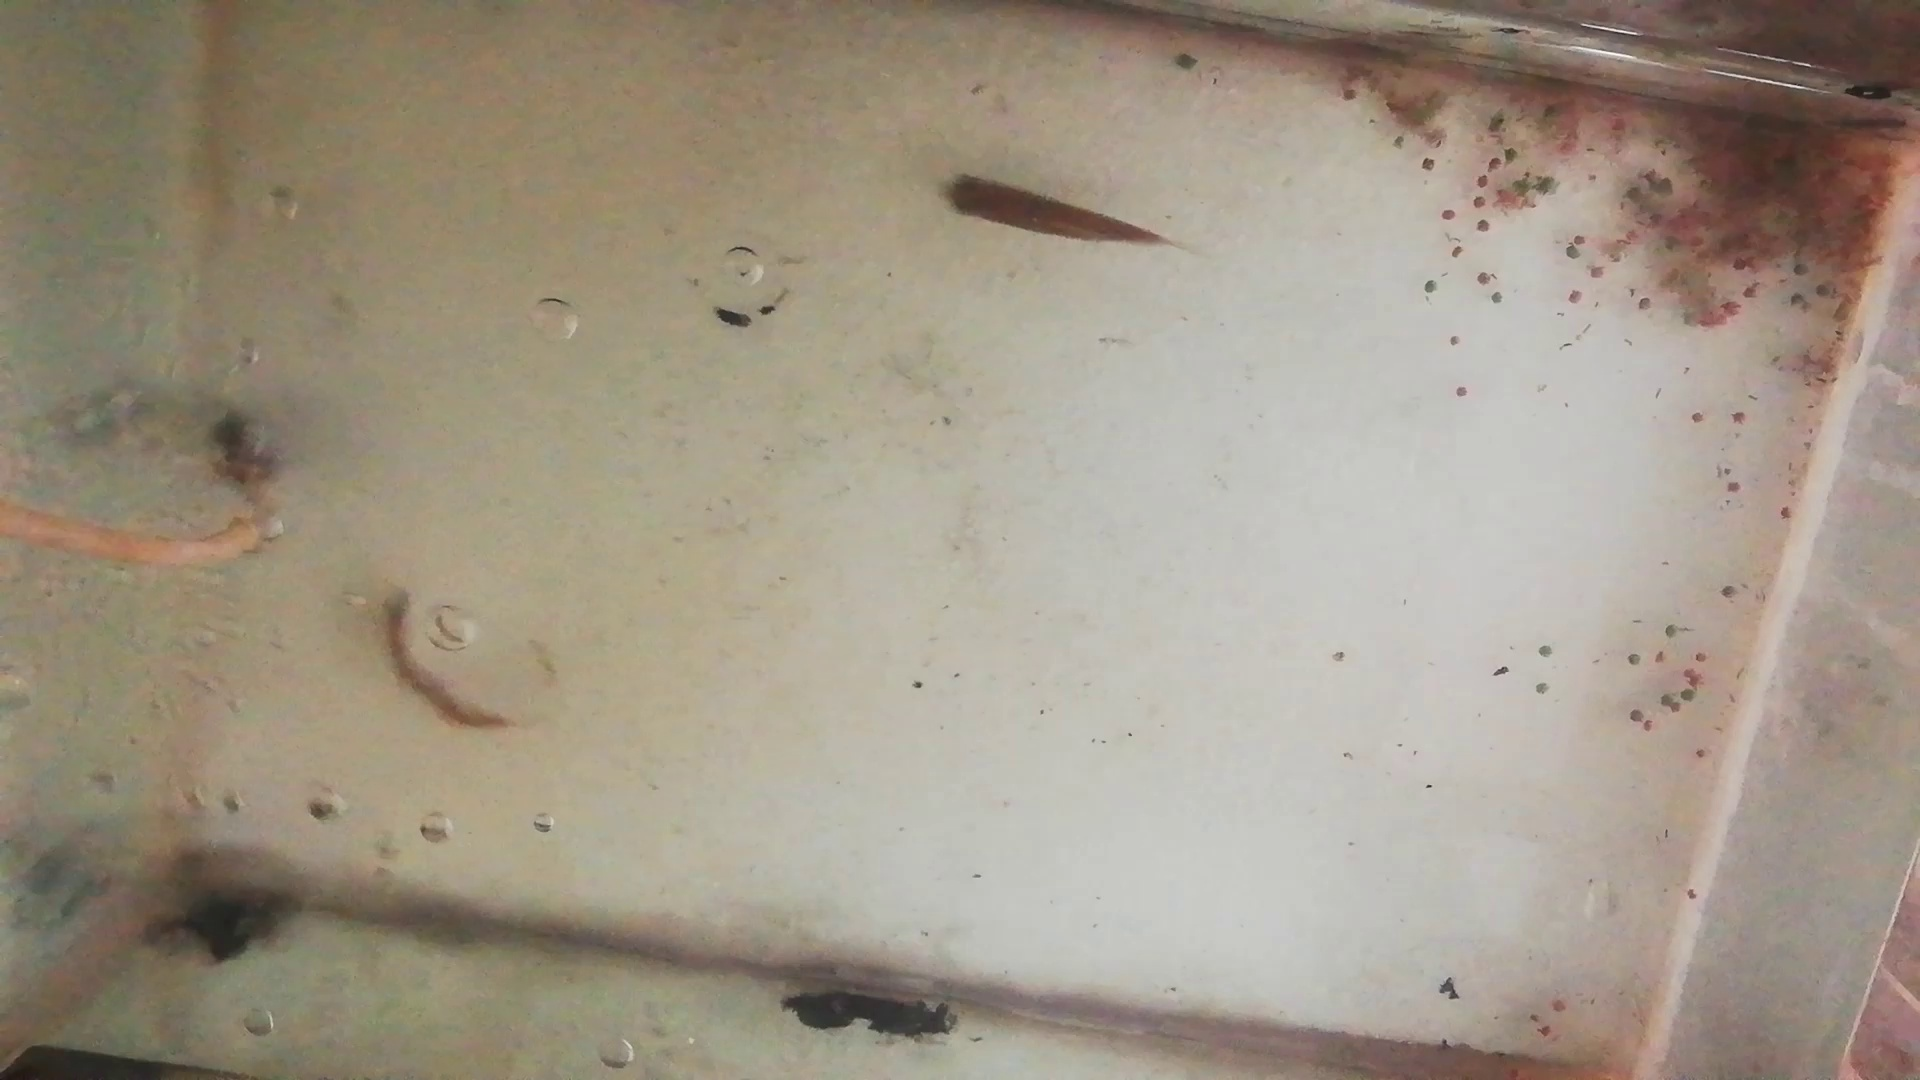fish: (368, 591, 502, 735), (945, 167, 1164, 252)
